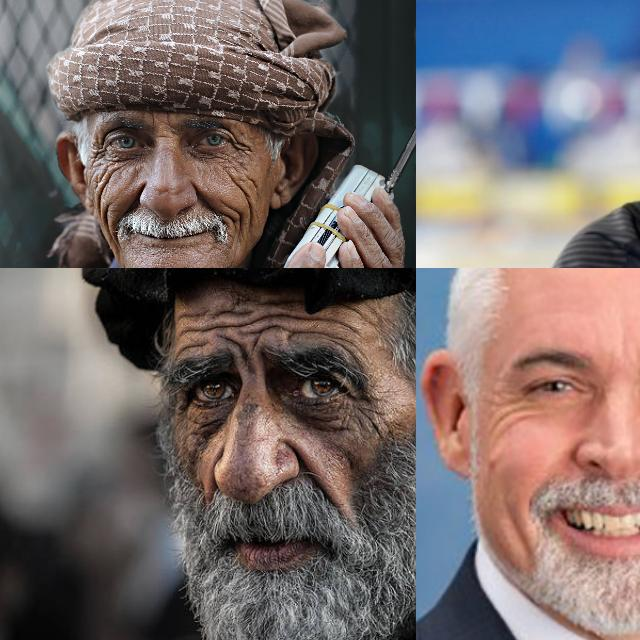crows_feet: (489, 389, 527, 426), (342, 392, 374, 428), (174, 390, 192, 424), (230, 136, 253, 160), (90, 136, 108, 166)
forehead: (262, 304, 326, 330), (230, 320, 282, 338), (290, 323, 332, 343), (174, 320, 224, 334), (178, 306, 212, 324), (172, 339, 205, 357), (218, 306, 256, 318)
frown_line: (232, 338, 250, 367), (148, 111, 158, 132), (163, 110, 173, 128)
gummy_smile: (288, 442, 328, 492), (193, 181, 213, 211), (123, 188, 143, 212)
masseter: (232, 174, 252, 210), (92, 174, 110, 210), (102, 204, 114, 242)
sad_smile: (225, 206, 247, 240)
